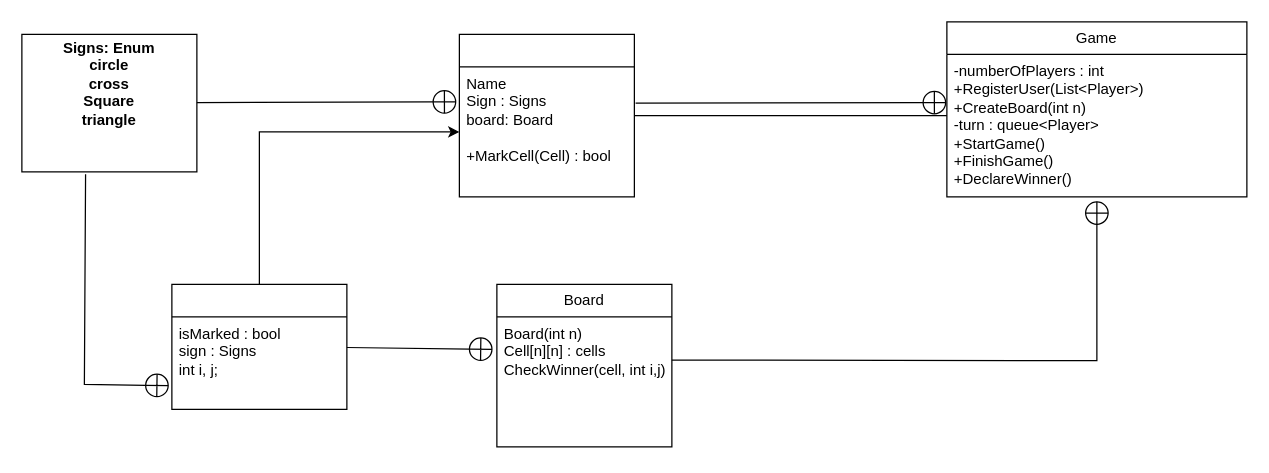
This 1269x473 diagram has some shape labels left out. Each missing label, with the box of its shape:
Cells: (171, 283, 347, 409)
Player: (458, 33, 634, 197)
